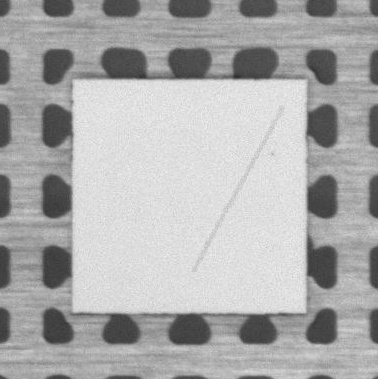DIE_CRACK: (192, 107, 282, 272)
